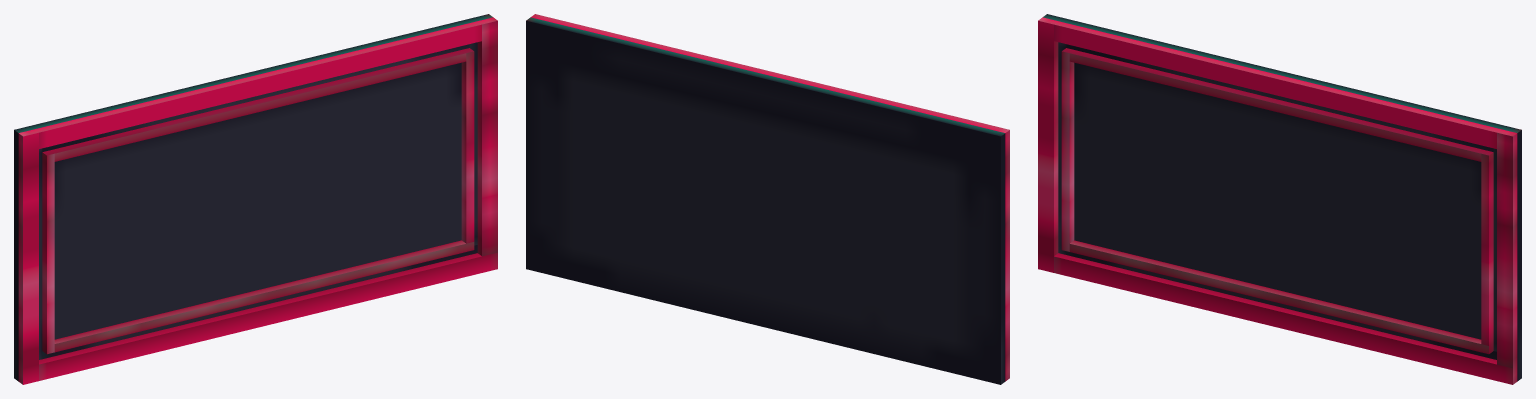
Rendered from BillboardModule_Backplate_C_00.fbx.
3 renders of one model, left to right at view 1: azimuth 30°, elevation 25°; view 2: azimuth 150°, elevation 25°; view 3: azimuth 330°, elevation 25°, orthographic.
Visible parts, largest first — view 1: BillboardModule_Backplate_C_00; view 2: BillboardModule_Backplate_C_00; view 3: BillboardModule_Backplate_C_00.
Boxes of the visible parts, x1=… form: BillboardModule_Backplate_C_00: x1=14, y1=14, x2=497, y2=384; BillboardModule_Backplate_C_00: x1=526, y1=14, x2=1009, y2=384; BillboardModule_Backplate_C_00: x1=1038, y1=14, x2=1521, y2=384.
Size of the model in its own units: 300 by 150 by 10.
